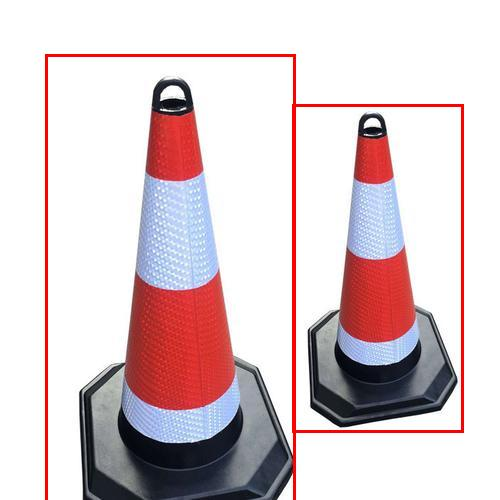traffic_cone: (54, 70, 302, 499), (299, 107, 464, 433)
